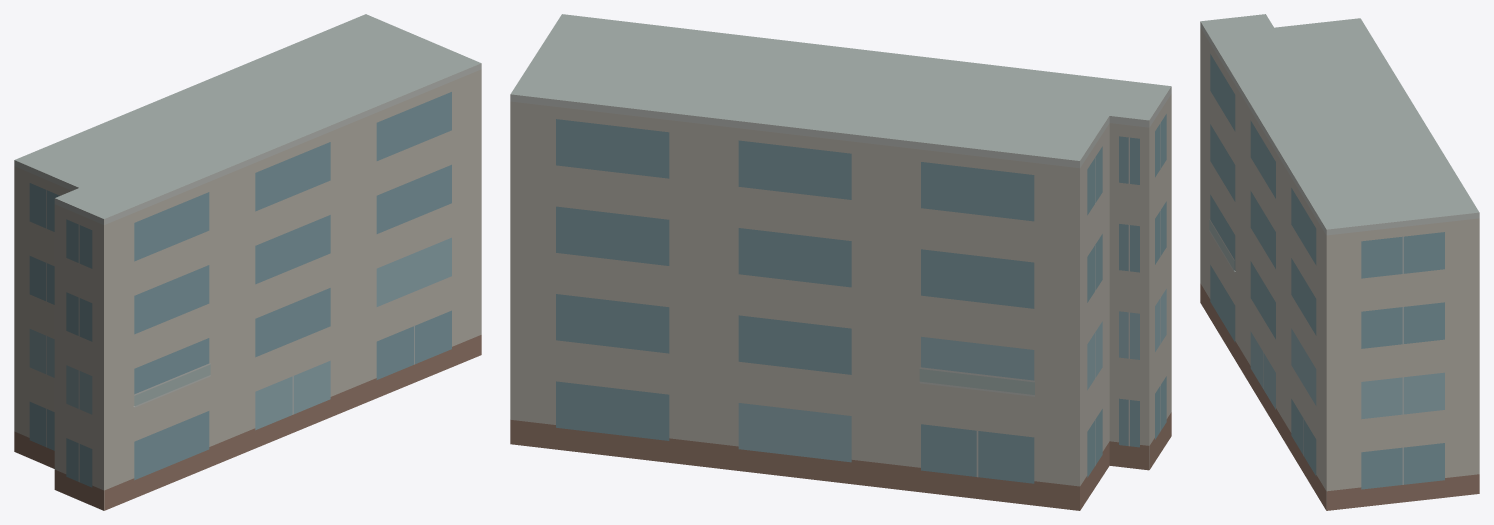
The model's file is survey-upis-32647062.glb.
3 renders of one model, left to right at view 1: azimuth 30°, elevation 25°; view 2: azimuth 150°, elevation 25°; view 3: azimuth 270°, elevation 25°, orthographic. The views are drawn at different scales.
Visible parts, largest first — view 1: survey-upis-32647062.tmp; view 2: survey-upis-32647062.tmp; view 3: survey-upis-32647062.tmp.
Part boxes in pixels (box(x1,y1,x2,y2)): survey-upis-32647062.tmp: box(14, 14, 481, 510); survey-upis-32647062.tmp: box(510, 14, 1171, 510); survey-upis-32647062.tmp: box(1200, 14, 1479, 510).
Bounding box in the file's own units: 19.41 × 11.8 × 10.63.
